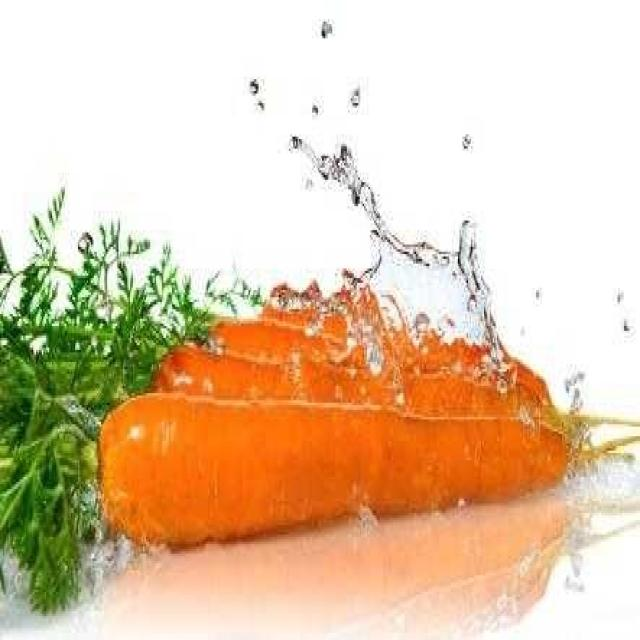carrots: (104, 382, 575, 546)
